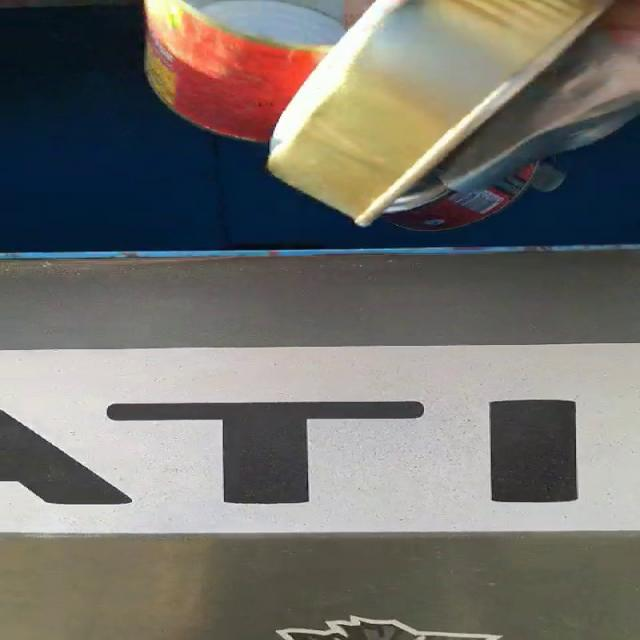bin: (1, 7, 640, 350), (1, 533, 640, 640)
metal: (144, 0, 344, 142)
